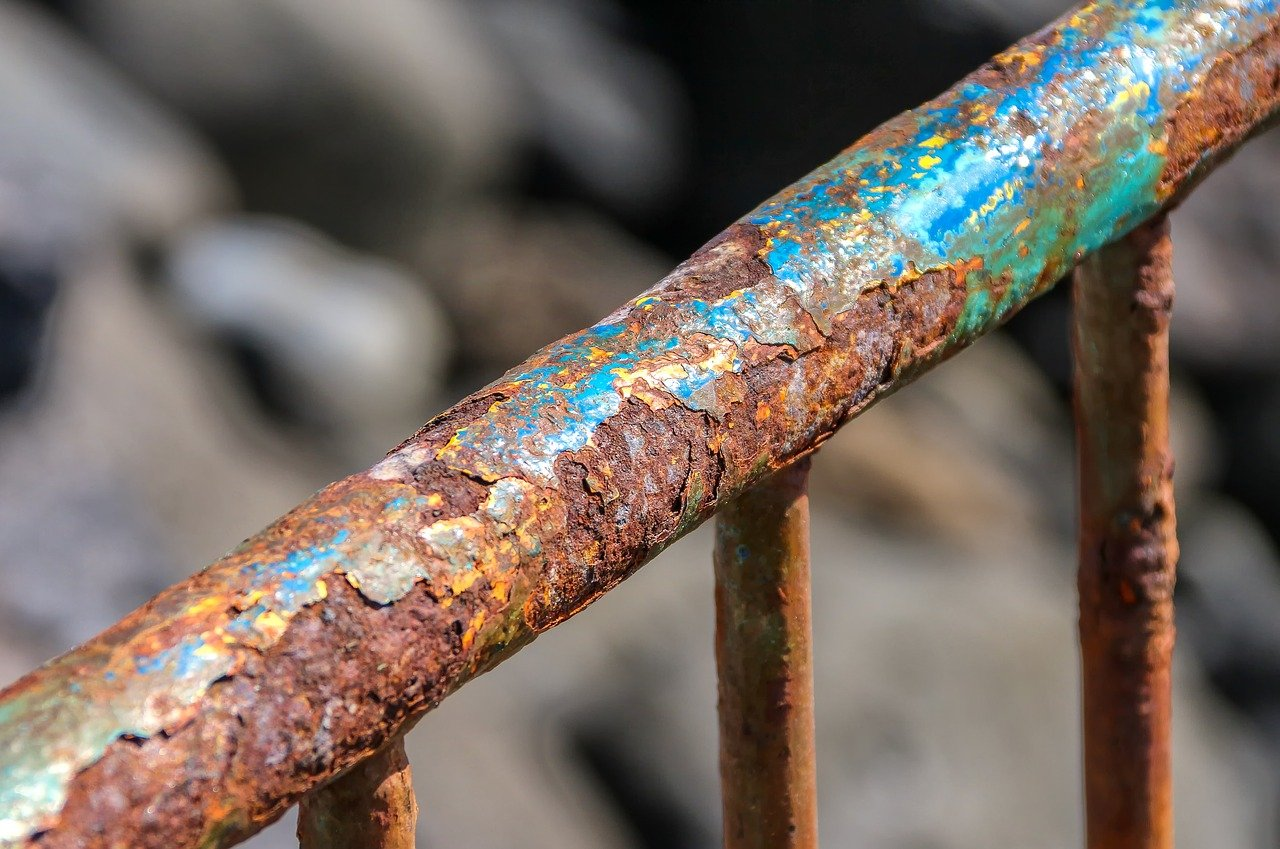rust: (1067, 241, 1178, 849), (710, 384, 824, 846), (231, 573, 422, 845), (553, 374, 694, 604), (891, 270, 957, 353)
